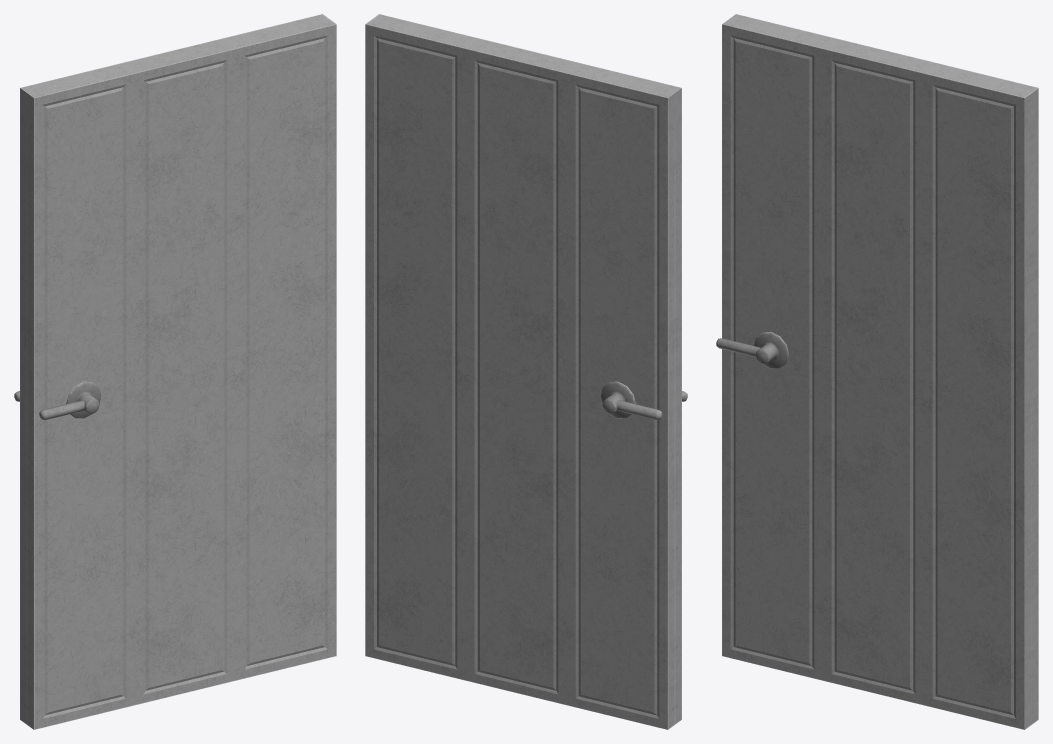
The model's file is animacion puerta.fbx.
3 renders of one model, left to right at view 1: azimuth 30°, elevation 25°; view 2: azimuth 150°, elevation 25°; view 3: azimuth 330°, elevation 25°, orthographic.
Visible parts, largest first — view 1: Puerta; view 2: Puerta; view 3: Puerta.
Boxes of the visible parts, x1,y1,x2,y2 form: Puerta: [14, 14, 336, 729]; Puerta: [365, 14, 687, 729]; Puerta: [716, 14, 1038, 729].
Bounding box in the file's own units: 122 × 243 × 23.31.
1 material, 1 textured.
